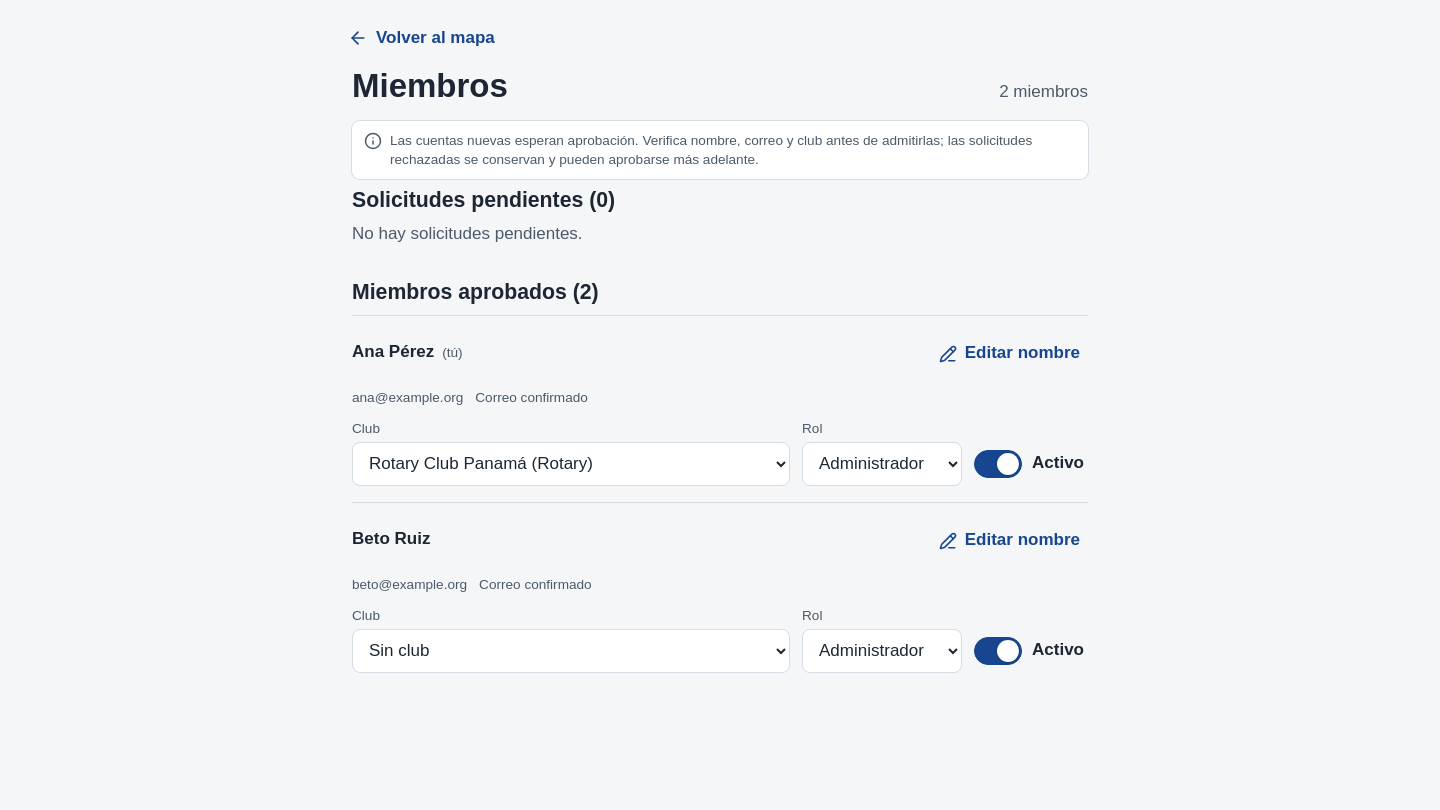
Test: MembersAdmin › si falla al guardar el nombre, el diálogo sigue abierto con el error
Click the button with aria-label "Editar nombre de Beto Ruiz": x=1009, y=541 [923,519,1096,563]
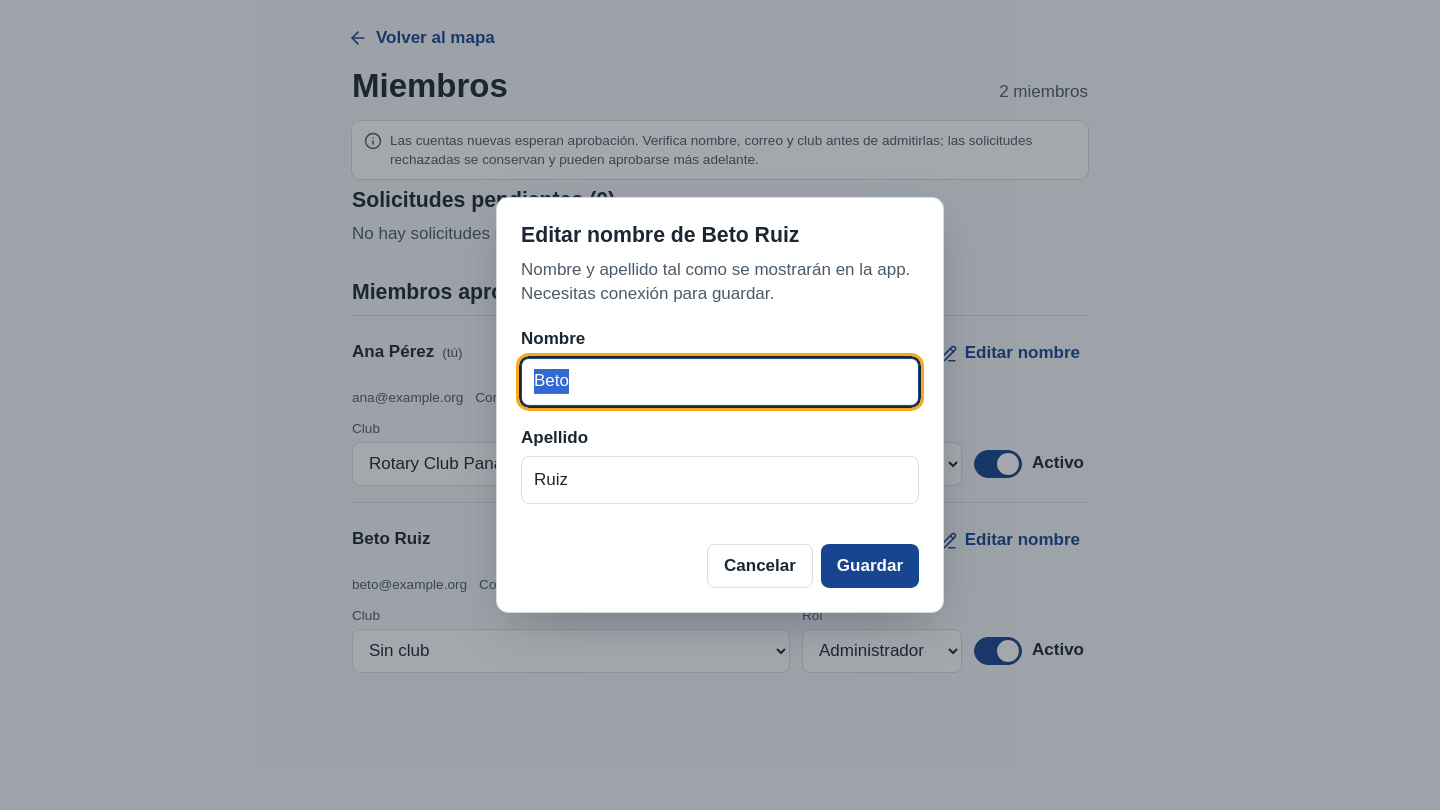
Click the button "Guardar": x=870, y=566 [821,544,919,588]
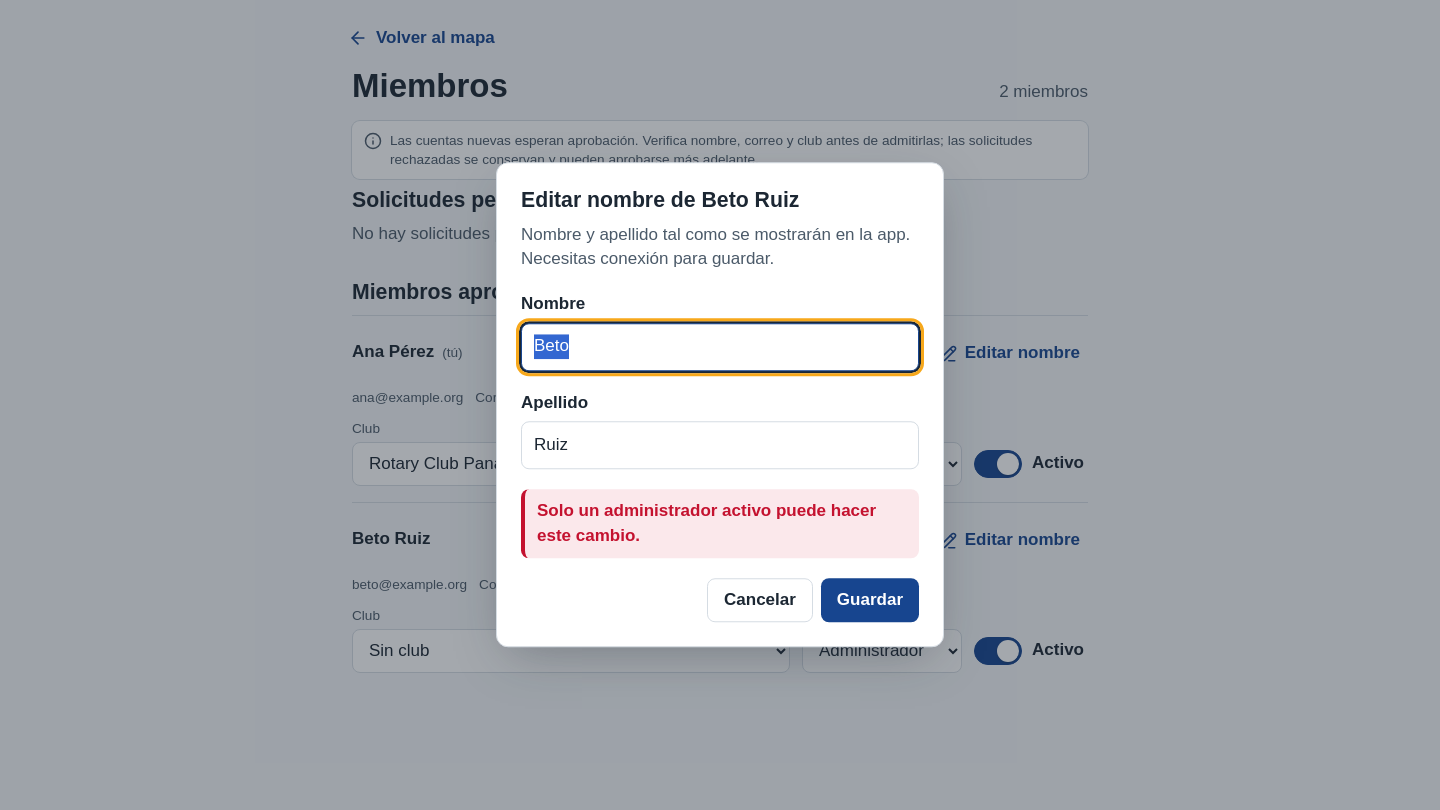
Check: the text "Solo un administrador activo puede hacer este cambio." is shown, box [521,490,919,559]
